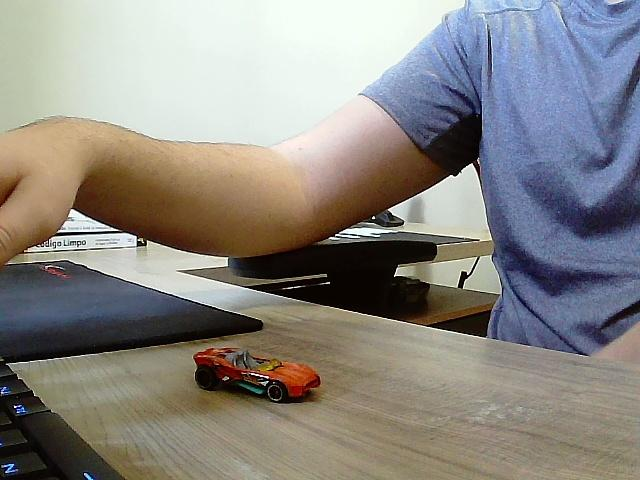Carro: (194, 349, 321, 403)
